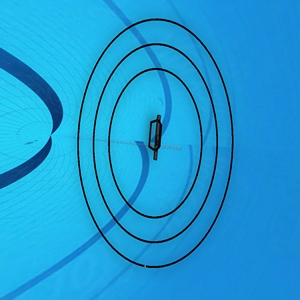circle: (74, 19, 235, 268)
submarine: (145, 113, 163, 160)
